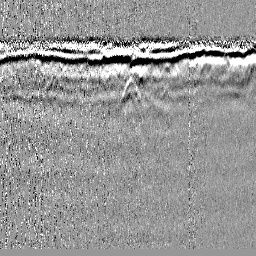cavity: (120, 75, 140, 102)
